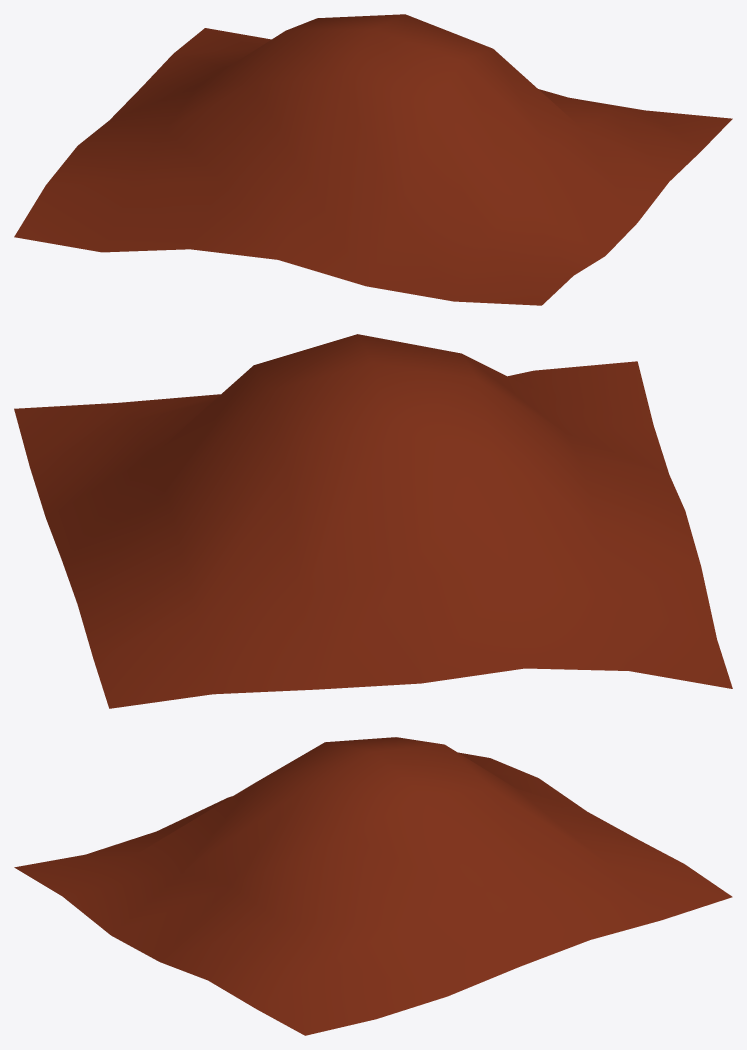
File: Debris_A.fbx
3 renders of one model, top to bottom at view 1: azimuth 30°, elevation 25°; view 2: azimuth 150°, elevation 25°; view 3: azimuth 270°, elevation 25°, orthographic. The views are drawn at different scales.
Visible parts, largest first — view 1: Debris_A; view 2: Debris_A; view 3: Debris_A.
Boxes of the visible parts, x1,y1,x2,y2 form: Debris_A: (14, 14, 732, 305); Debris_A: (14, 334, 732, 708); Debris_A: (14, 737, 732, 1035).
Bounding box in the file's own units: 84.57 × 19.36 × 85.95.
